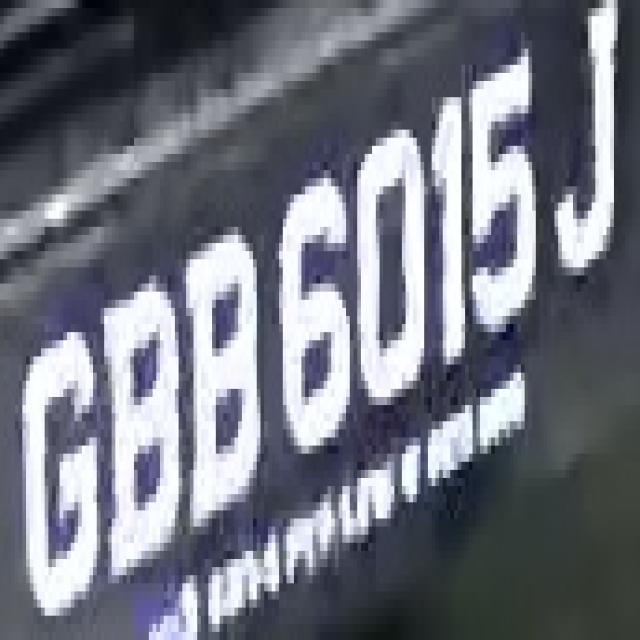0: (350, 146, 439, 421)
1: (420, 65, 469, 405)
5: (458, 48, 543, 364)
6: (268, 138, 361, 462)
B: (97, 259, 190, 600), (182, 210, 272, 534)
G: (15, 299, 111, 640)
J: (543, 16, 625, 300)
